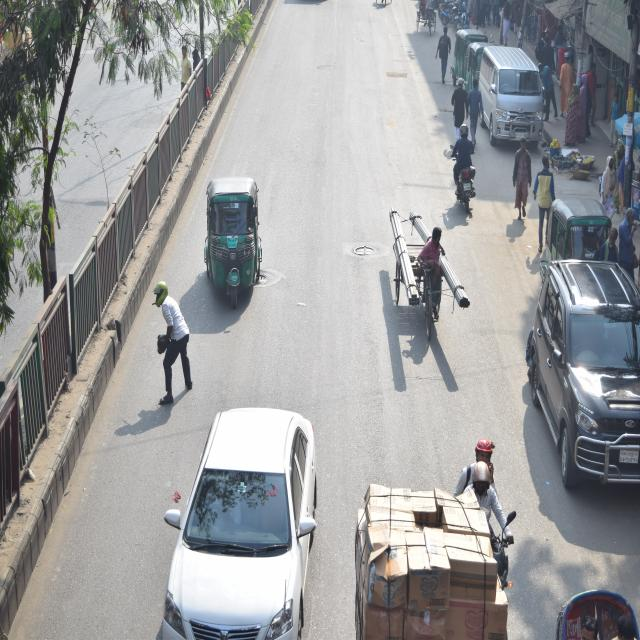car: (153, 388, 325, 640), (520, 247, 640, 500)
microbus: (474, 44, 544, 150)
motorbike: (446, 129, 476, 221), (436, 0, 467, 32)
